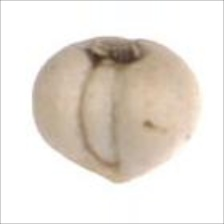L5: (76, 64, 130, 169), (69, 35, 152, 70), (77, 164, 159, 186)
L6: (30, 34, 204, 185)
